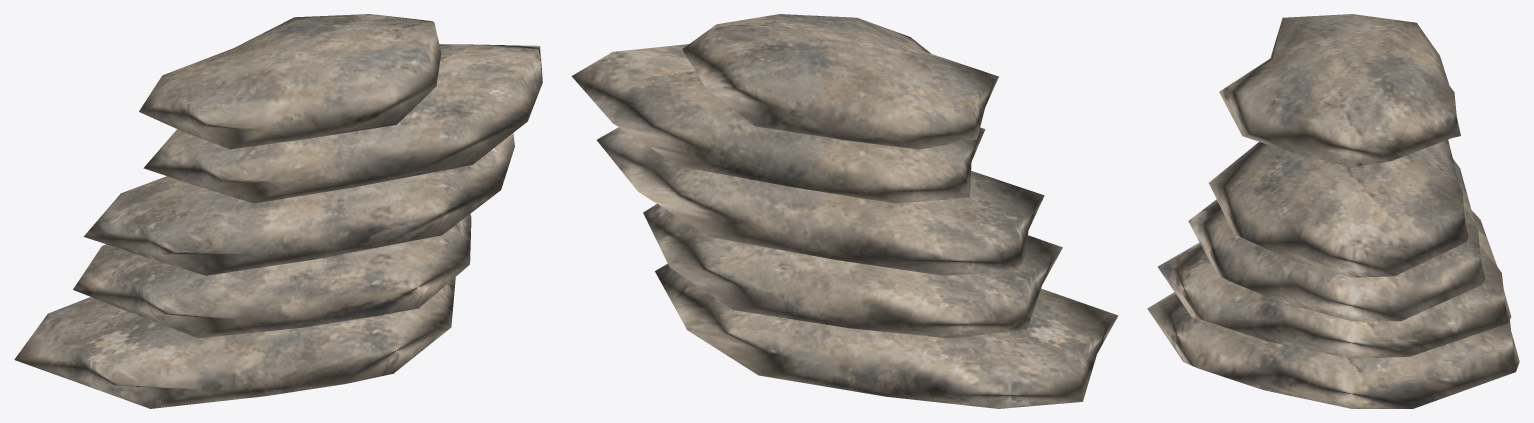
The model's file is stacked-stone.glb.
The picture shows the model from 3 angles, left to right: view 1: azimuth 30°, elevation 25°; view 2: azimuth 150°, elevation 25°; view 3: azimuth 270°, elevation 25°; orthographic projection. The views are drawn at different scales.
Parts seen in each view (by area): view 1: StackedStone04_Painted_360; view 2: StackedStone04_Painted_360; view 3: StackedStone04_Painted_360.
Part boxes in pixels (bbox=[...]): StackedStone04_Painted_360: bbox=[14, 14, 542, 408]; StackedStone04_Painted_360: bbox=[571, 14, 1118, 408]; StackedStone04_Painted_360: bbox=[1147, 14, 1519, 408].
Bounding box in the file's own units: 0.19 × 0.1033 × 0.1084.
Materials: 1 (1 with a texture image).
